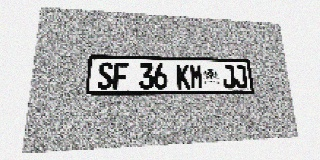3: (139, 63, 153, 89)
6: (154, 63, 168, 89)
F: (113, 63, 128, 89)
J: (222, 65, 236, 89), (234, 65, 248, 89)
K: (176, 64, 190, 89)
M: (190, 64, 204, 89)
S: (97, 62, 113, 89)
